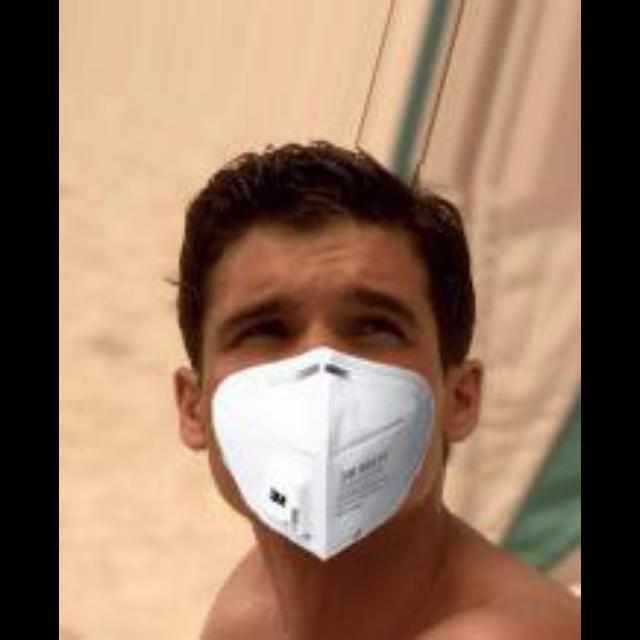suspicion: (178, 141, 468, 531)
